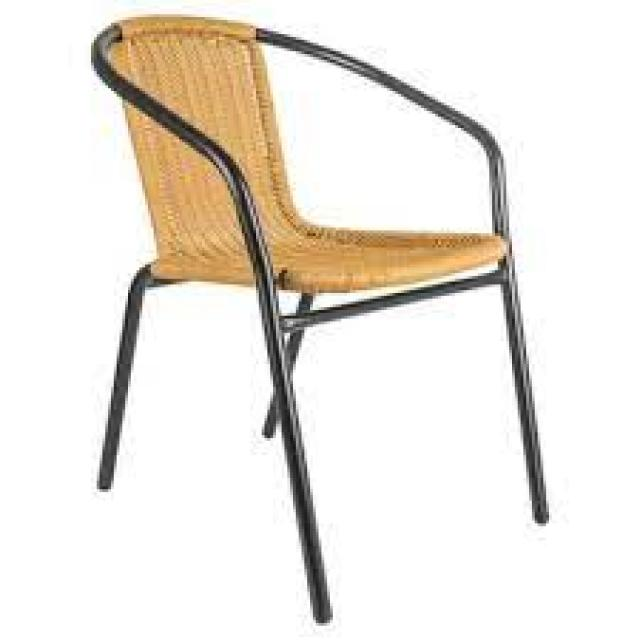bottle: (90, 9, 550, 624)
